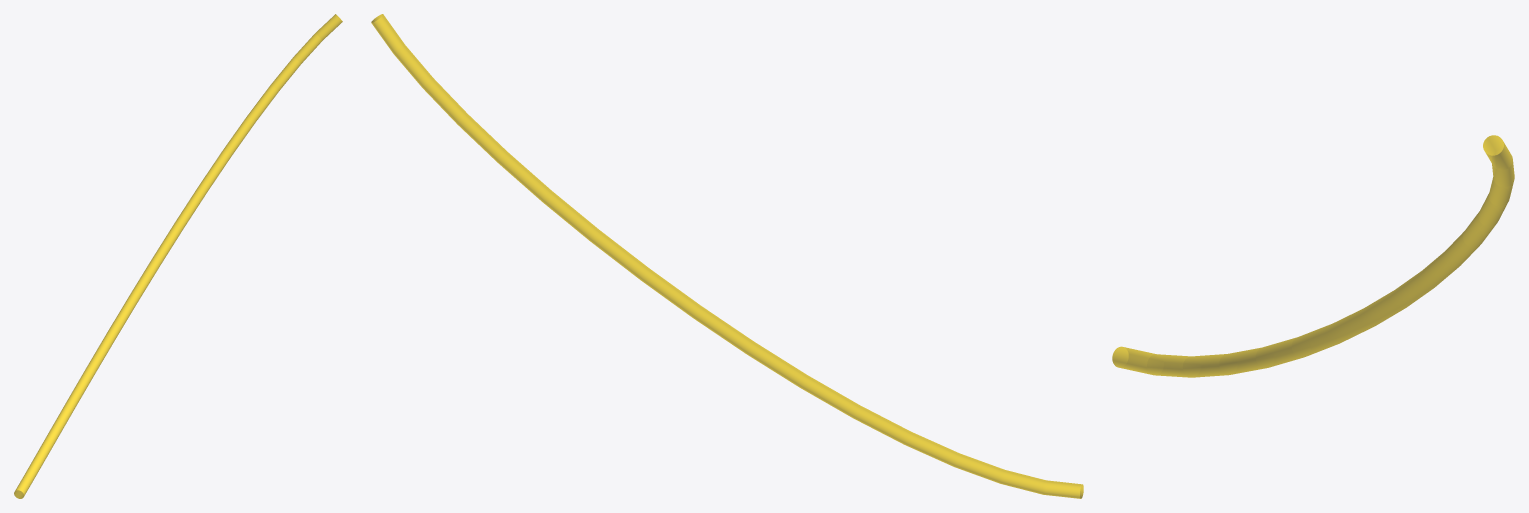
The model's file is Event_100608114_track_109.fbx.
3 renders of one model, left to right at view 1: azimuth 30°, elevation 25°; view 2: azimuth 150°, elevation 25°; view 3: azimuth 270°, elevation 25°, orthographic. The views are drawn at different scales.
Parts seen in each view (by area): view 1: Model; view 2: Model; view 3: Model.
Part boxes in pixels (box(x1,y1,x2,y2)): Model: box(14, 14, 342, 498); Model: box(371, 14, 1083, 498); Model: box(1112, 135, 1514, 377).
Bounding box in the file's own units: 1.82 × 1.31 × 0.7547.
